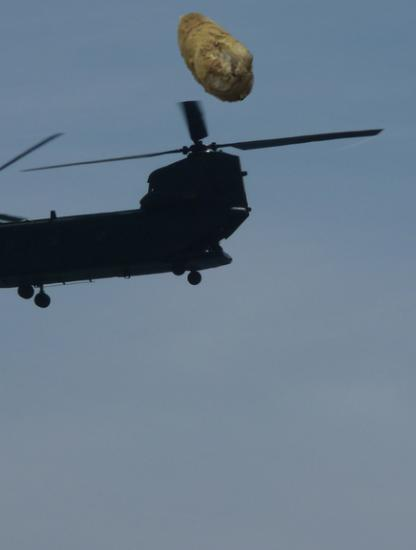Ginger: (162, 4, 267, 109)
